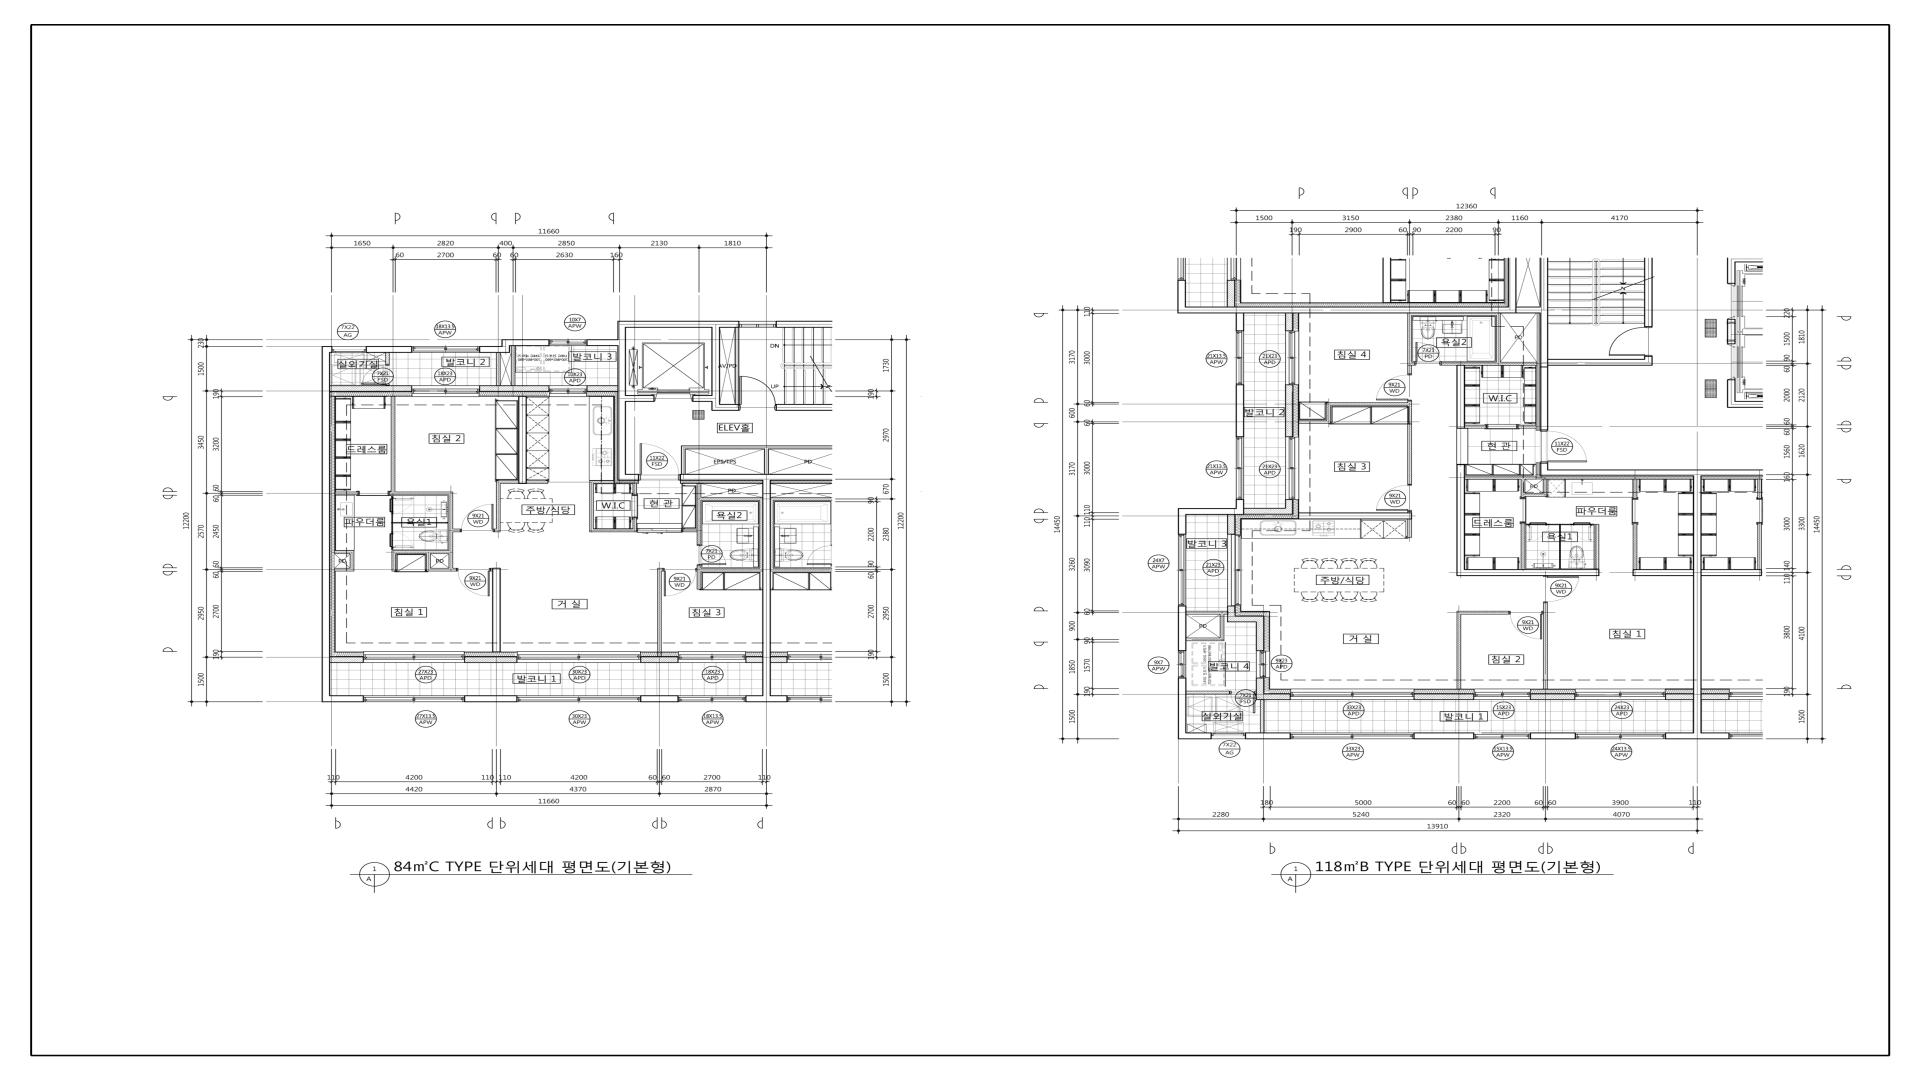door: (640, 443, 680, 480), (1545, 431, 1588, 463), (740, 376, 777, 411), (1607, 327, 1648, 356), (460, 504, 495, 533), (456, 568, 492, 596), (663, 568, 696, 596), (1375, 375, 1410, 400), (1375, 485, 1410, 510), (1545, 576, 1580, 601), (1510, 613, 1542, 640), (696, 545, 727, 566), (361, 364, 389, 385), (1415, 342, 1440, 364), (1230, 692, 1255, 713), (389, 496, 414, 514), (389, 531, 414, 550), (1528, 522, 1548, 542), (1572, 522, 1590, 542), (637, 529, 682, 533), (632, 493, 638, 520), (357, 491, 389, 496), (1631, 498, 1638, 522), (1486, 425, 1518, 429), (1520, 498, 1526, 522)
wall: (1665, 476, 1702, 740), (322, 345, 332, 702), (1540, 463, 1763, 476), (1178, 306, 1516, 314), (1178, 498, 1244, 534), (1178, 678, 1212, 740), (762, 481, 771, 695), (617, 328, 626, 480), (680, 473, 832, 480), (1727, 380, 1763, 407), (1456, 464, 1465, 570), (1548, 356, 1652, 365), (1456, 570, 1600, 576), (1727, 257, 1763, 284), (1540, 257, 1548, 367), (617, 320, 740, 327), (711, 327, 720, 411), (492, 568, 501, 653), (1299, 513, 1412, 520), (518, 396, 526, 484), (680, 446, 832, 450), (1456, 365, 1465, 429), (657, 568, 663, 657), (1644, 257, 1652, 327), (330, 385, 411, 392), (1540, 367, 1548, 430), (390, 397, 396, 492), (1284, 385, 1294, 438), (1543, 603, 1548, 688), (480, 385, 549, 392), (1407, 401, 1412, 485), (777, 320, 832, 328), (777, 404, 832, 411), (1236, 384, 1244, 438), (1178, 605, 1187, 651), (464, 695, 517, 703), (735, 327, 740, 404), (1633, 570, 1693, 576), (1414, 694, 1474, 700), (1407, 315, 1415, 365), (448, 496, 454, 568), (1441, 361, 1538, 365), (367, 345, 411, 353), (464, 657, 517, 663), (745, 695, 787, 703), (501, 339, 550, 345), (495, 484, 501, 533), (696, 484, 702, 545), (1414, 733, 1474, 738), (1327, 402, 1407, 406), (1457, 611, 1461, 688), (1531, 694, 1576, 700), (641, 695, 678, 703), (1465, 476, 1536, 480), (1244, 508, 1286, 514), (330, 695, 364, 703), (1255, 622, 1265, 651), (1495, 313, 1501, 361), (389, 492, 454, 496), (1633, 522, 1638, 570), (1520, 522, 1526, 570), (1594, 524, 1600, 570), (641, 657, 678, 663), (1530, 733, 1576, 738), (1245, 733, 1291, 738), (480, 345, 510, 353), (1407, 313, 1495, 315), (702, 497, 760, 501), (330, 657, 364, 663), (392, 550, 448, 554), (1255, 678, 1265, 700), (587, 339, 617, 345), (587, 385, 617, 392), (1727, 319, 1735, 344), (1461, 611, 1510, 615), (1236, 616, 1265, 622), (589, 529, 637, 533), (760, 497, 762, 568), (1665, 694, 1693, 700), (626, 396, 654, 402), (1226, 514, 1236, 534), (589, 484, 593, 529), (1259, 700, 1265, 733), (1265, 694, 1291, 700), (1187, 691, 1230, 695), (496, 353, 501, 385), (1187, 611, 1228, 615), (702, 568, 762, 571), (1236, 314, 1245, 331), (1516, 306, 1540, 313), (512, 345, 516, 385), (720, 404, 738, 411), (1228, 605, 1236, 622), (1284, 314, 1292, 331), (680, 450, 686, 473), (764, 450, 769, 473), (1284, 498, 1292, 514), (692, 396, 711, 402), (1559, 525, 1561, 570), (1633, 479, 1638, 498), (1520, 479, 1526, 498), (1220, 615, 1224, 641), (746, 657, 762, 663), (589, 480, 615, 484), (1407, 520, 1412, 538), (698, 566, 702, 589), (349, 554, 355, 571), (496, 480, 518, 484), (335, 492, 357, 496), (1187, 638, 1220, 641), (626, 473, 640, 480), (1526, 493, 1547, 497), (1465, 425, 1486, 429), (527, 480, 549, 484), (334, 550, 355, 554), (426, 568, 456, 571), (426, 554, 431, 568), (1518, 425, 1536, 429), (1299, 421, 1327, 423), (393, 522, 448, 524), (1327, 406, 1331, 423), (392, 554, 396, 571), (1543, 479, 1547, 493), (683, 529, 696, 533), (1407, 365, 1412, 375), (385, 353, 389, 364), (335, 568, 349, 571), (633, 520, 637, 529), (633, 484, 637, 493), (1548, 524, 1572, 525), (454, 529, 460, 533), (392, 514, 393, 531)
window: (517, 651, 641, 663), (1291, 688, 1414, 700), (364, 651, 464, 663), (1576, 690, 1665, 700), (1228, 534, 1241, 605), (1284, 438, 1299, 498), (517, 695, 641, 702), (411, 385, 480, 397), (678, 651, 745, 663), (1286, 331, 1299, 385), (364, 695, 464, 702), (1291, 733, 1414, 738), (1474, 688, 1531, 699), (1178, 534, 1185, 605), (1236, 438, 1244, 500), (1576, 733, 1665, 738), (549, 385, 587, 397), (678, 695, 745, 702), (1236, 331, 1244, 384), (1255, 651, 1270, 678), (411, 347, 479, 352), (1473, 733, 1530, 738), (740, 320, 777, 327), (550, 339, 587, 345), (1178, 651, 1185, 678), (332, 347, 367, 352), (1212, 733, 1245, 738)
